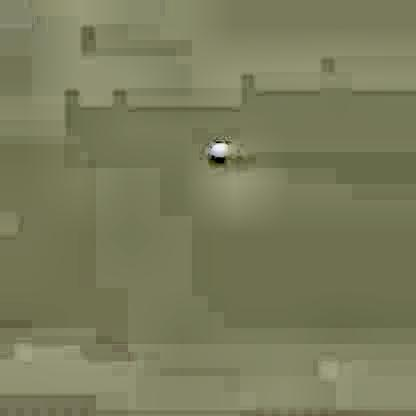golfball: (206, 140, 228, 160)
